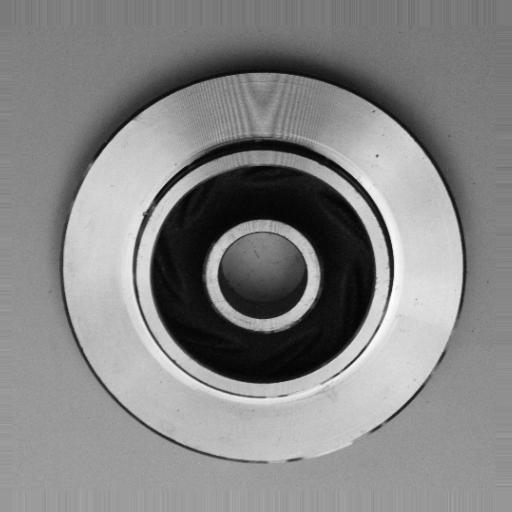scratch: (249, 434, 373, 480), (247, 368, 351, 412)
unpolished_casting: (63, 64, 465, 467)
